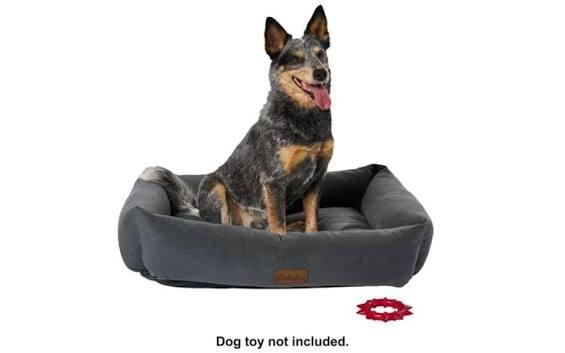adult_dog: (151, 3, 335, 236)
